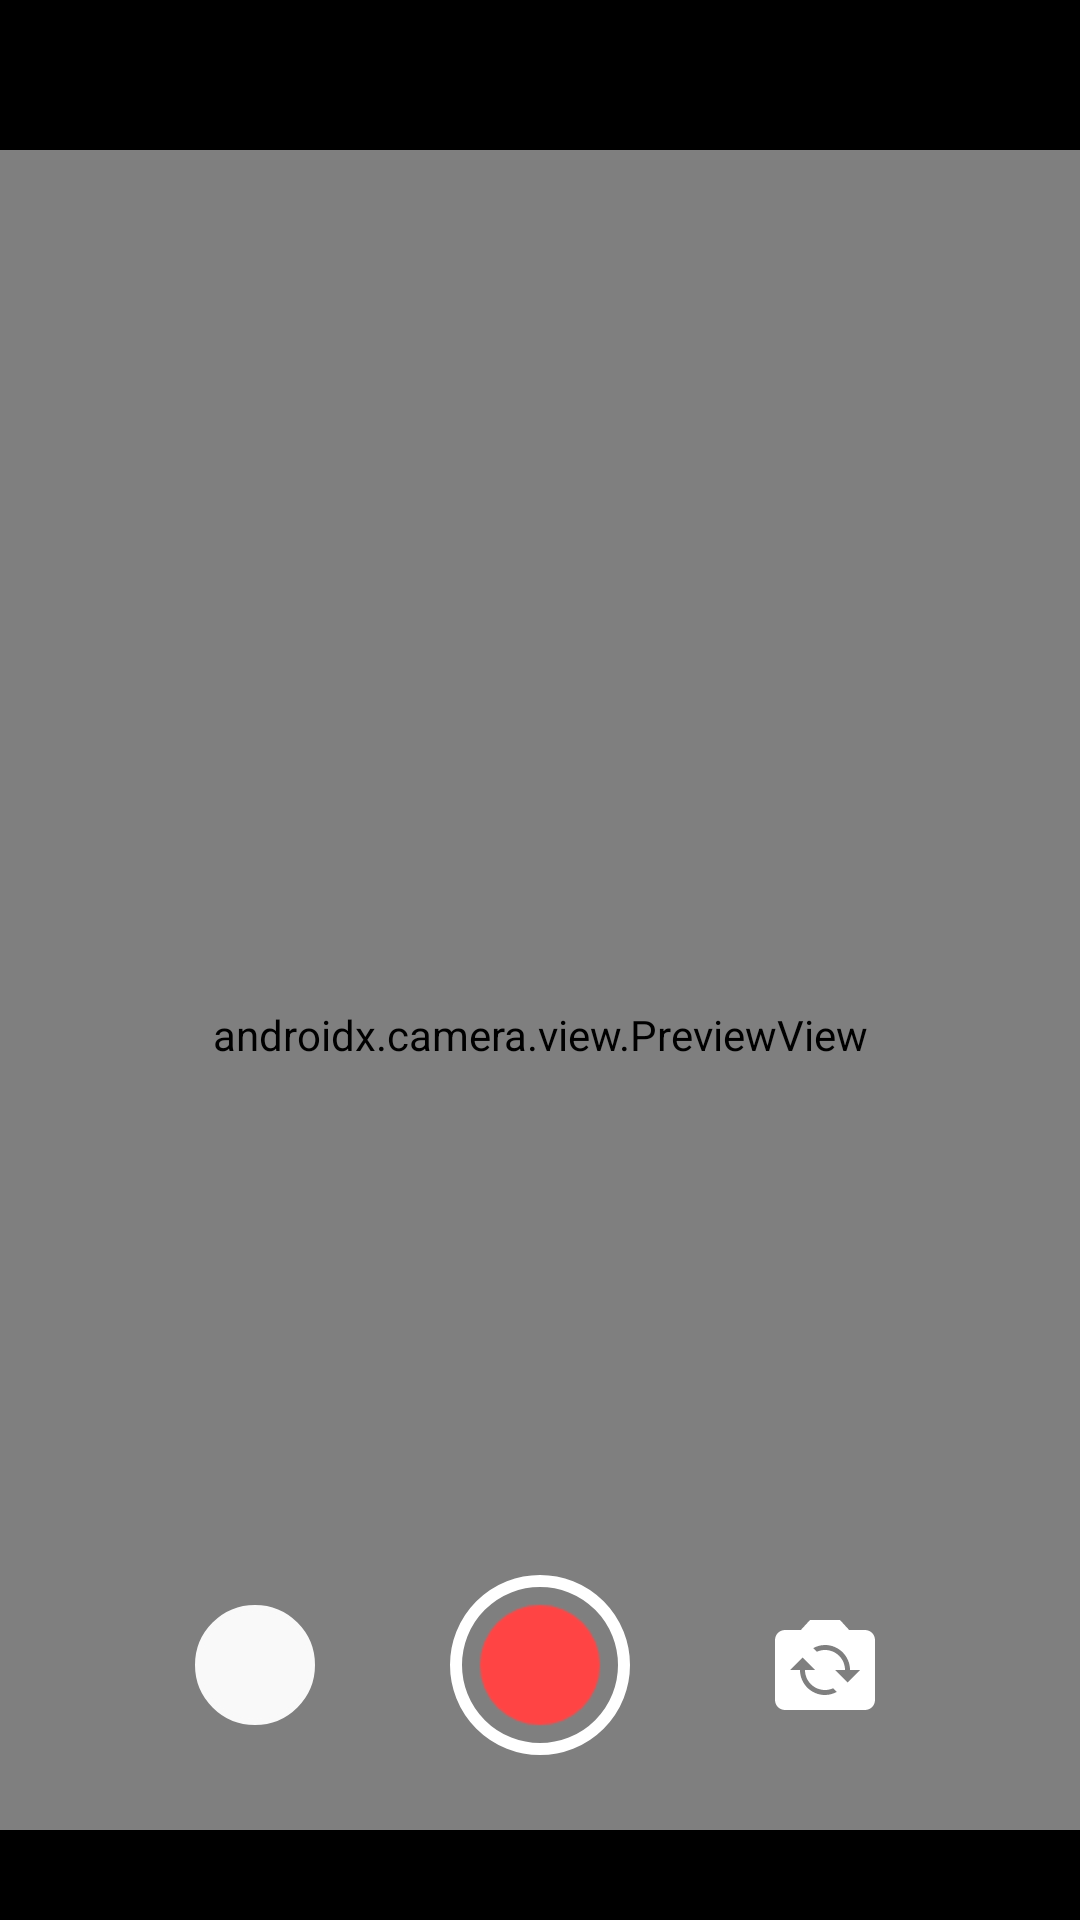

Icons on this 1080px x 1920px Android screen, each with the point to tap as point (x, y):
video camera flip: point (825, 1665)
